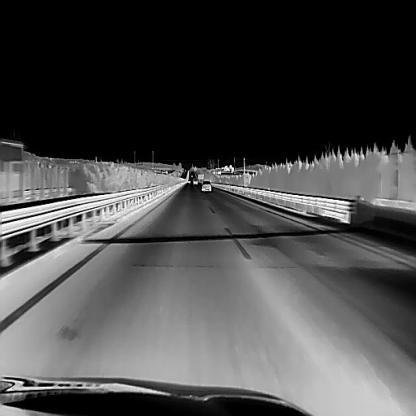car: (200, 180, 211, 190)
truck: (192, 176, 197, 184)
